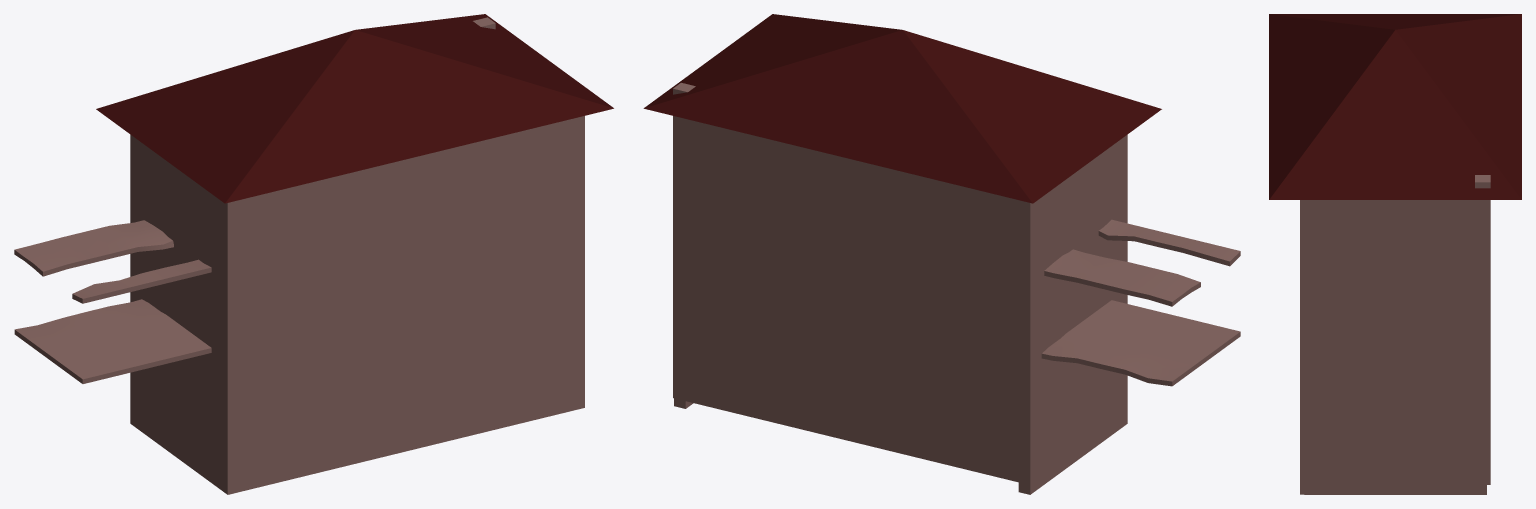
Rendered from platformBuilding.fbx.
3 views of the same model, side by side, from view 1: azimuth 30°, elevation 25°; view 2: azimuth 150°, elevation 25°; view 3: azimuth 270°, elevation 25° (orthographic). The views are drawn at different scales.
Parts seen in each view (by area): view 1: Box036, edificio3, Box039, Box040, Box041; view 2: Box038, edificio3, Box039, Box040, Box041; view 3: Box037, edificio3, Box036, Box038.
Part boxes in pixels (<box>): Box036: <box>239,116,584,491</box>; edificio3: <box>96,14,613,203</box>; Box039: <box>130,134,239,494</box>; Box040: <box>14,299,211,383</box>; Box041: <box>14,220,211,303</box>; Box038: <box>673,82,1019,482</box>; edificio3: <box>643,14,1161,203</box>; Box039: <box>1018,134,1127,494</box>; Box040: <box>1041,300,1240,386</box>; Box041: <box>1044,219,1240,306</box>; Box037: <box>1304,200,1486,494</box>; edificio3: <box>1269,14,1521,199</box>; Box036: <box>1300,200,1304,494</box>; Box038: <box>1475,175,1490,484</box>.
Bounding box in the file's own units: 334 × 150 × 247.
